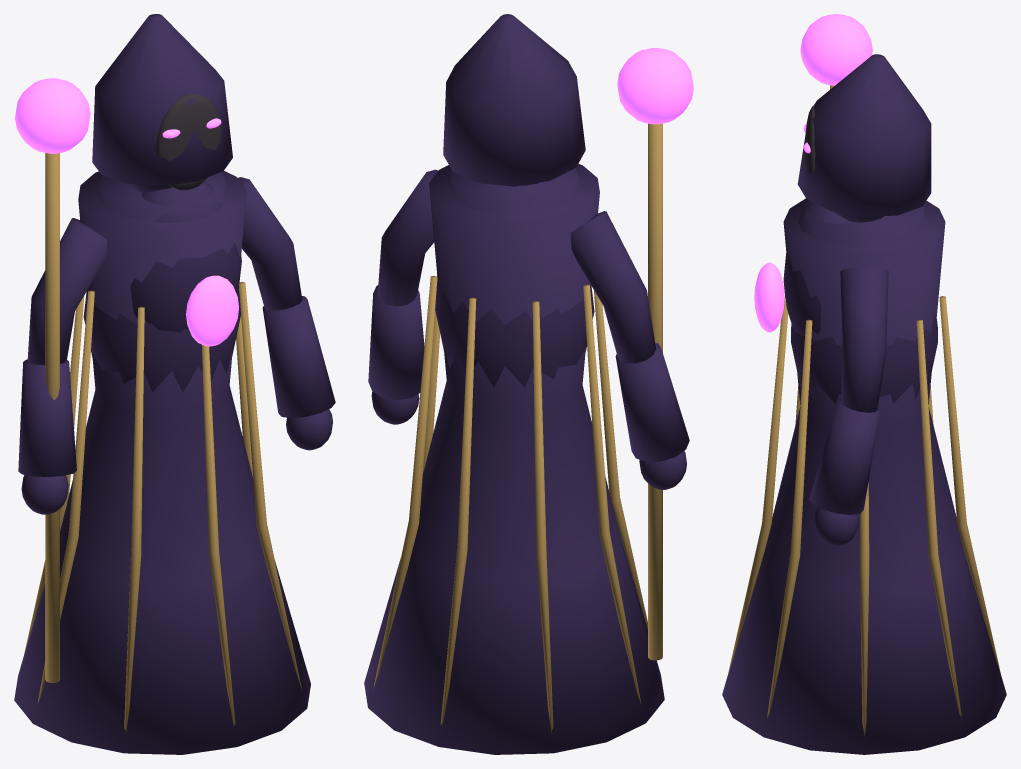
The model's file is void-herald.glb.
3 renders of one model, left to right at view 1: azimuth 30°, elevation 25°; view 2: azimuth 150°, elevation 25°; view 3: azimuth 270°, elevation 25°, orthographic. The views are drawn at different scales.
Visible parts, largest first — view 1: Flowing robe, Upper arm, Upper arm.001; view 2: Flowing robe, Upper arm, Upper arm.001; view 3: Flowing robe, Upper arm.001, Upper arm.
Part boxes in pixels (x1=…): Flowing robe: x1=14, y1=14, x2=310, y2=754; Upper arm: x1=15, y1=78, x2=107, y2=683; Upper arm.001: x1=238, y1=177, x2=335, y2=450; Flowing robe: x1=364, y1=14, x2=664, y2=754; Upper arm: x1=570, y1=48, x2=693, y2=660; Upper arm.001: x1=368, y1=169, x2=438, y2=424; Flowing robe: x1=722, y1=54, x2=1006, y2=754; Upper arm.001: x1=809, y1=267, x2=888, y2=546; Upper arm: x1=800, y1=14, x2=872, y2=89.
Bounding box in the file's own units: 1.23 × 2.52 × 1.02.
